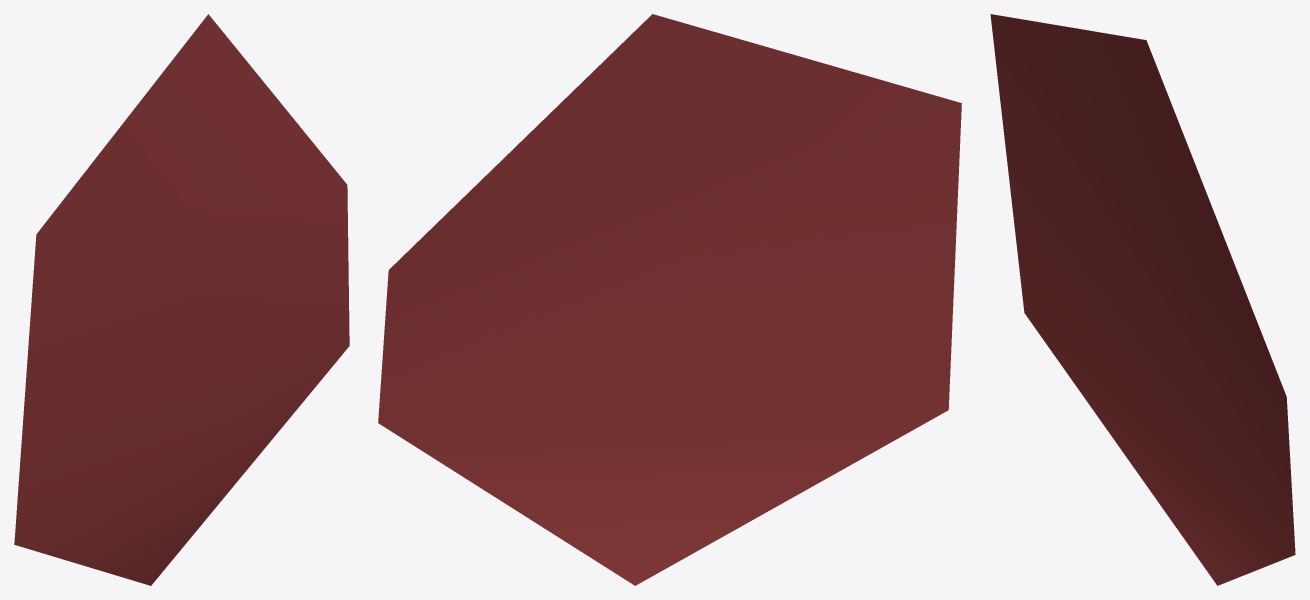
The model's file is mentalis-muscle-ol.glb.
3 renders of one model, left to right at view 1: azimuth 30°, elevation 25°; view 2: azimuth 150°, elevation 25°; view 3: azimuth 270°, elevation 25°, orthographic. The views are drawn at different scales.
Visible parts, largest first — view 1: Mentalis muscle.ol; view 2: Mentalis muscle.ol; view 3: Mentalis muscle.ol.
Boxes of the visible parts, box(x1,y1,x2,y2) form: Mentalis muscle.ol: box(14, 14, 349, 585); Mentalis muscle.ol: box(378, 14, 961, 585); Mentalis muscle.ol: box(990, 14, 1295, 585).
Bounding box in the file's own units: 0.00645 × 0.00763 × 0.0038.
